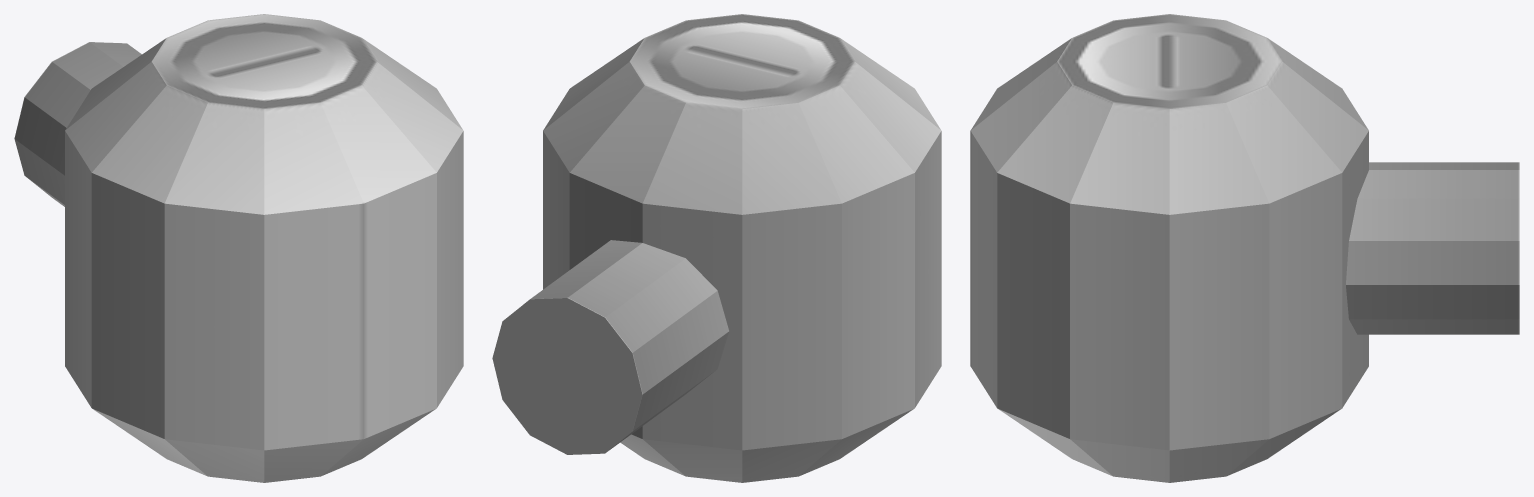
The model's file is JVRC-1-shape-9.dae.
3 renders of one model, left to right at view 1: azimuth 30°, elevation 25°; view 2: azimuth 150°, elevation 25°; view 3: azimuth 270°, elevation 25°, orthographic.
Visible parts, largest first — view 1: root; view 2: root; view 3: root.
Part boxes in pixels (box(x1,y1,x2,y2)): root: box(14, 14, 463, 482); root: box(492, 14, 941, 482); root: box(970, 14, 1519, 482).
Bounding box in the file's own units: 11.5 × 11.9 × 15.84.
Materials: 1 (1 with a texture image).
